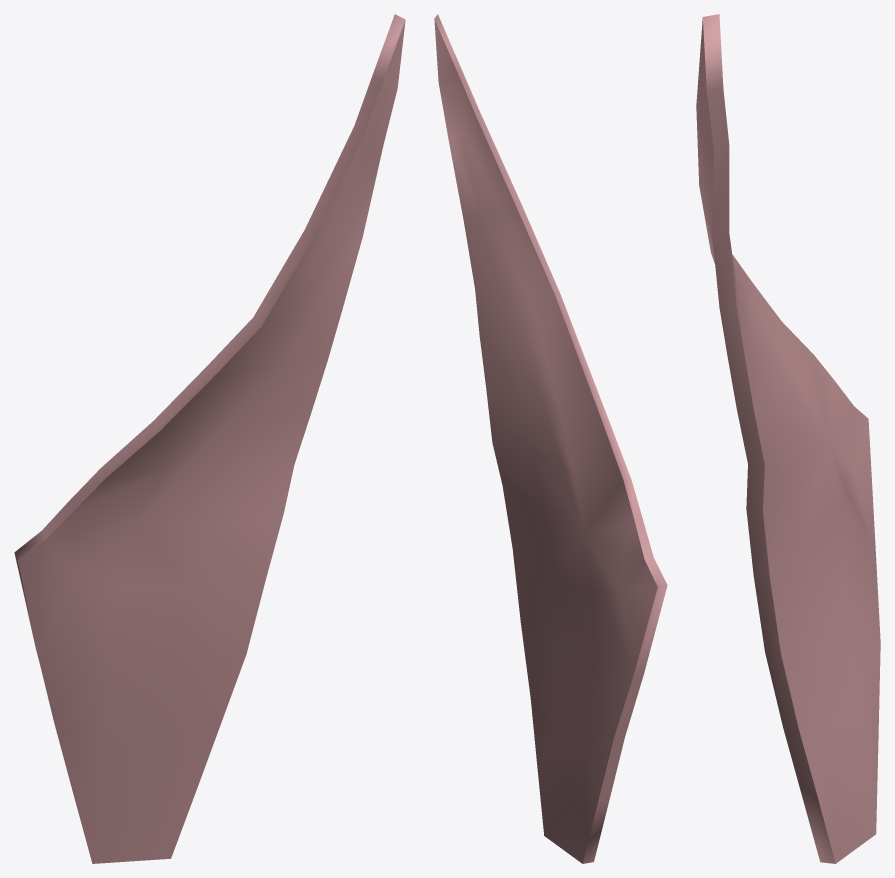
3 renders of one model, left to right at view 1: azimuth 30°, elevation 25°; view 2: azimuth 150°, elevation 25°; view 3: azimuth 270°, elevation 25°, orthographic. The views are drawn at different scales.
Parts seen in each view (by area): view 1: ZA_dba06c35d37a94dc; view 2: ZA_dba06c35d37a94dc; view 3: ZA_dba06c35d37a94dc.
Boxes of the visible parts, x1,y1,x2,y2 form: ZA_dba06c35d37a94dc: [14, 14, 405, 863]; ZA_dba06c35d37a94dc: [434, 14, 667, 863]; ZA_dba06c35d37a94dc: [696, 14, 880, 863].
Size of the model in its own units: 0.0732 by 0.1818 by 0.0319.
